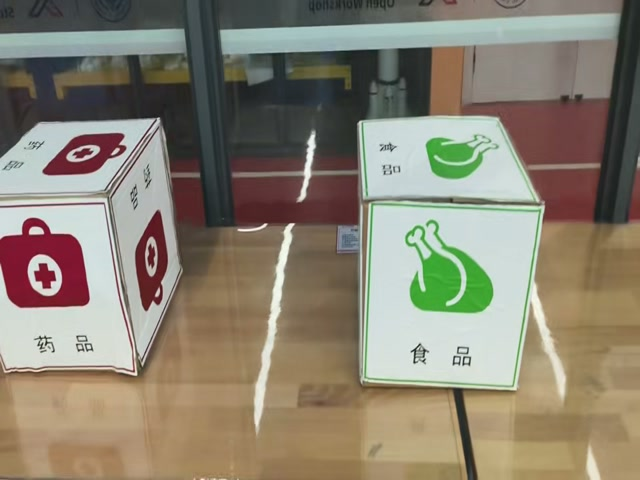Cube_food: (352, 113, 544, 204)
Cube_medicine: (0, 118, 160, 201)
